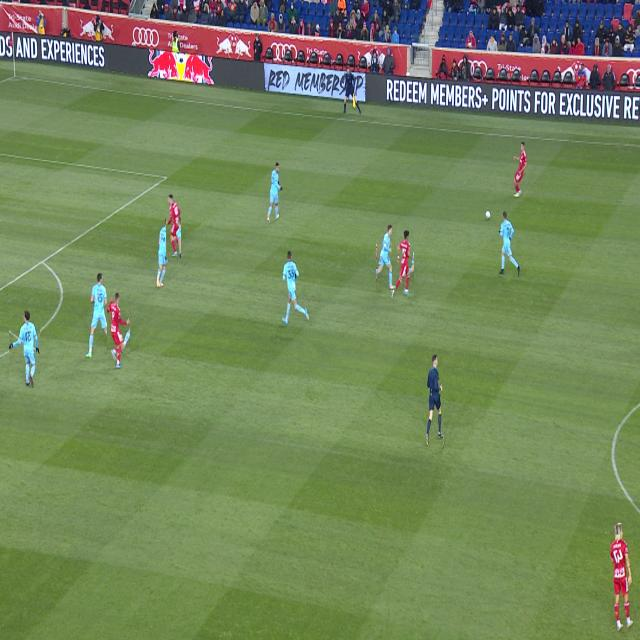football: (486, 211, 490, 220)
player: (85, 274, 119, 359), (610, 523, 633, 632), (9, 311, 40, 388), (282, 251, 309, 324), (107, 292, 130, 368), (391, 231, 414, 300), (499, 211, 521, 277), (376, 224, 396, 290), (157, 217, 171, 288), (267, 162, 283, 223), (166, 194, 181, 258), (513, 141, 527, 197)
referee: (427, 355, 443, 447)
